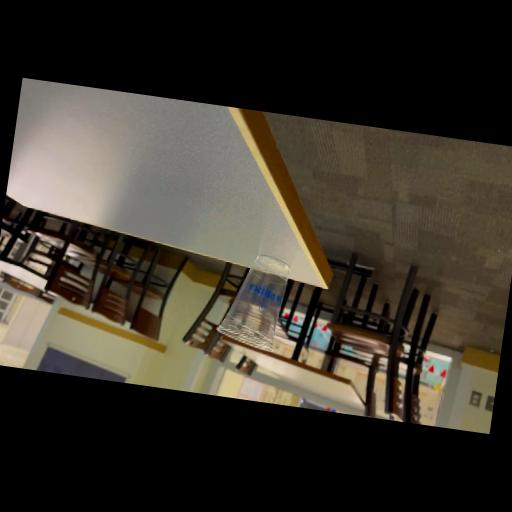lp_plastic_cup: (215, 245, 291, 355)
